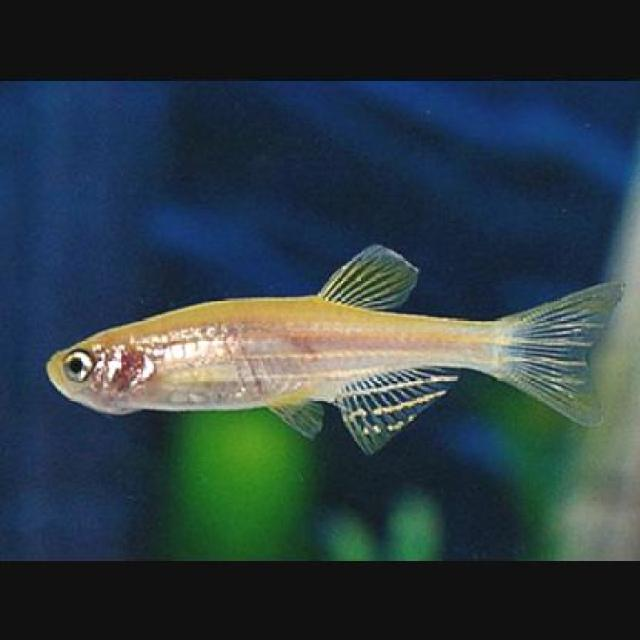ZebraFish: (49, 236, 632, 438)
